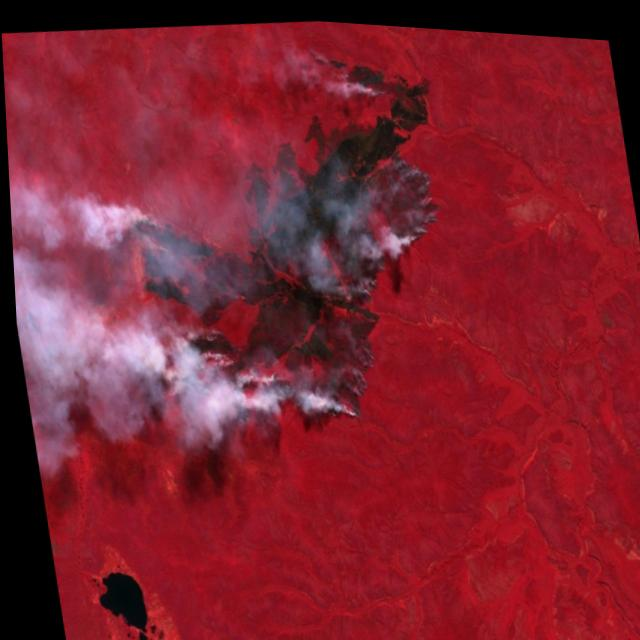fire: (101, 27, 468, 450)
